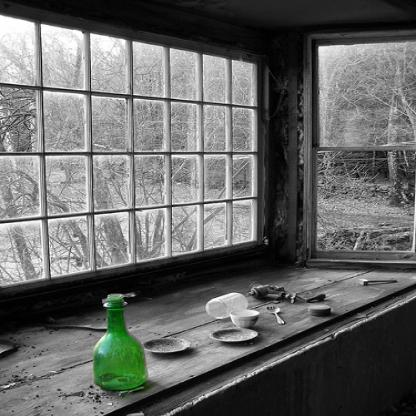bottle: (92, 292, 150, 394)
